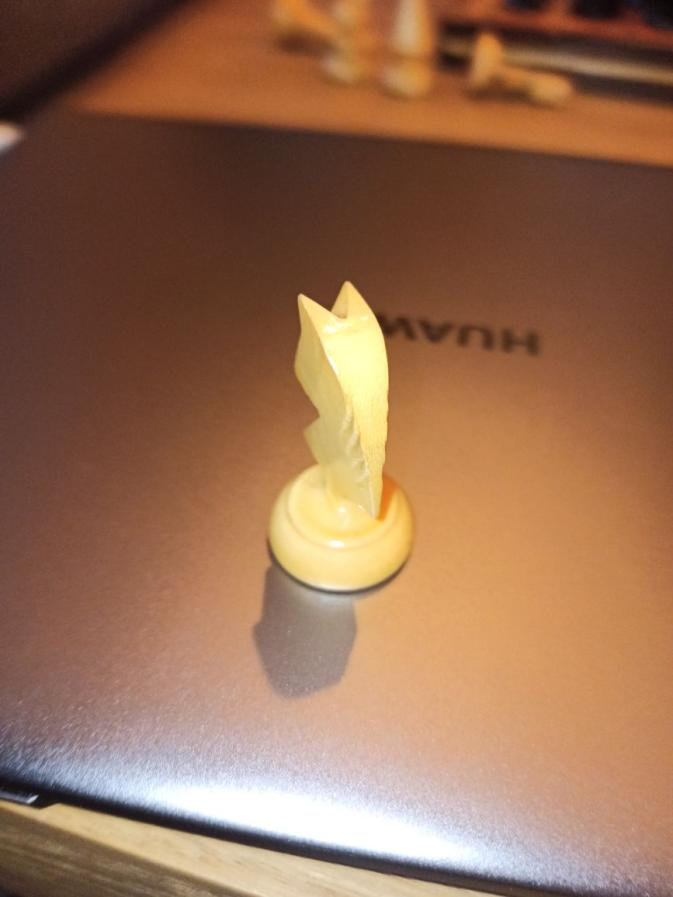wknight: (263, 281, 418, 600)
